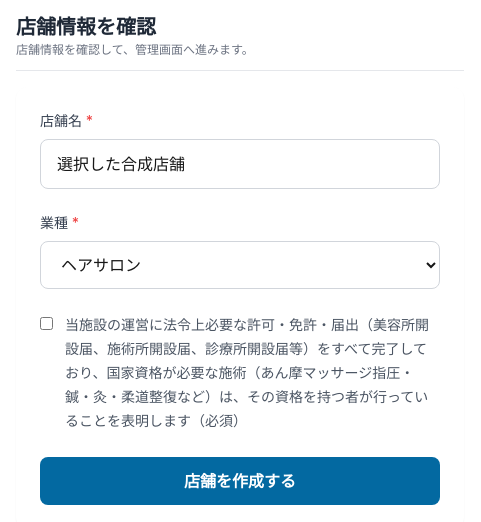
it: selected registration handoff › existing membership cannot hide an unconsumed selected receipt
The image size is (481, 522).
Expected: the field labelled "店舗名 *" holds "選択した合成店舗", [40,139,440,189]
What coordinates should you click on to do the following:
click the checkbox
I would click on:
 (46, 324)
Its box is [40,317,53,330].
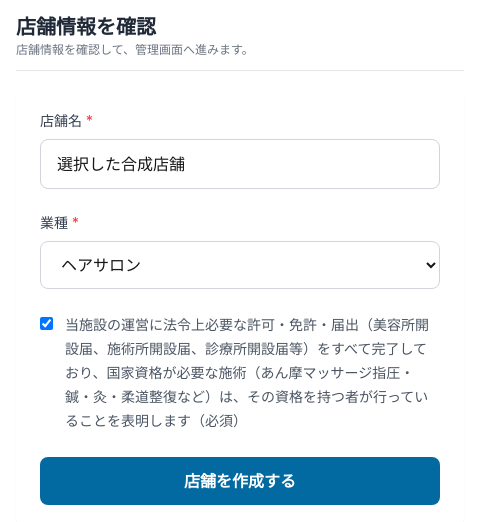
What coordinates should you click on to do the following:
click the button "店舗を作成する"
I would click on:
 (240, 481)
Its box is [40,457,440,505].
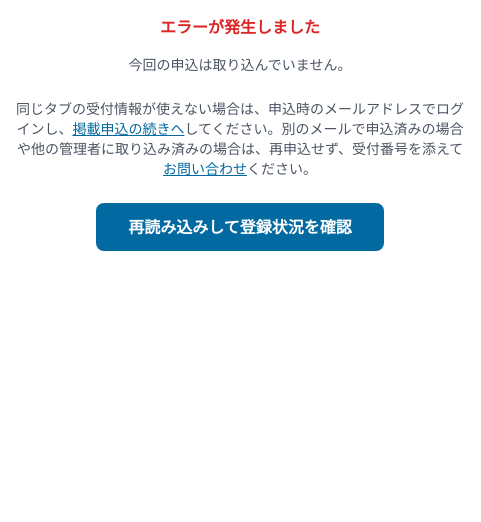
Result: the text "今回の申込は取り込んでいません。" is shown at [128,56,351,73]
